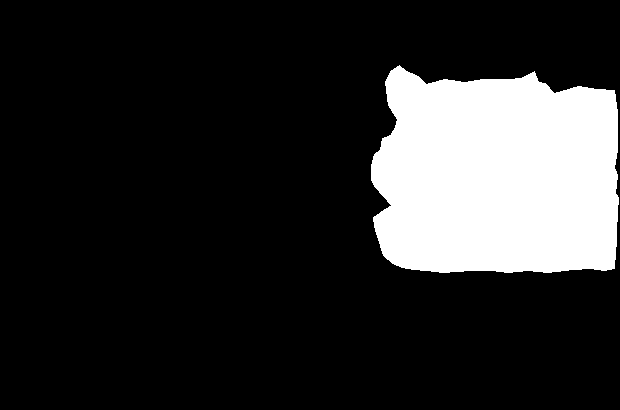type4: (369, 58, 620, 273)
